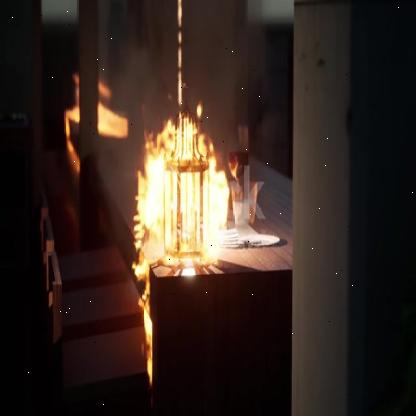fire: (134, 116, 231, 384)
smoke: (74, 0, 296, 222)
